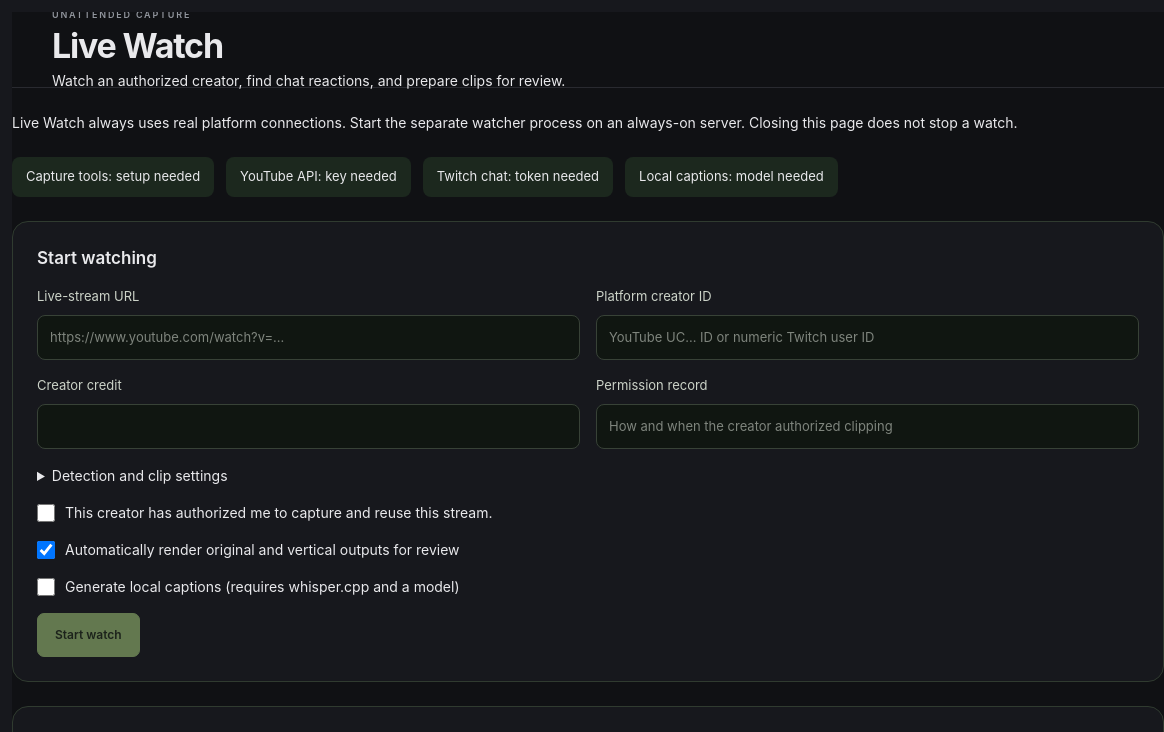
Scenario: shows live requirements and requires creator authorization
Expected: the text "YouTube API: key needed" is shown, [226, 157, 411, 196]
Expected: the button "Start watch" is disabled, [37, 613, 140, 657]
Click the checkbox labelled "This creator has authorized me to capture and reuse this stream.". click: [46, 512]
box: [37, 504, 55, 522]
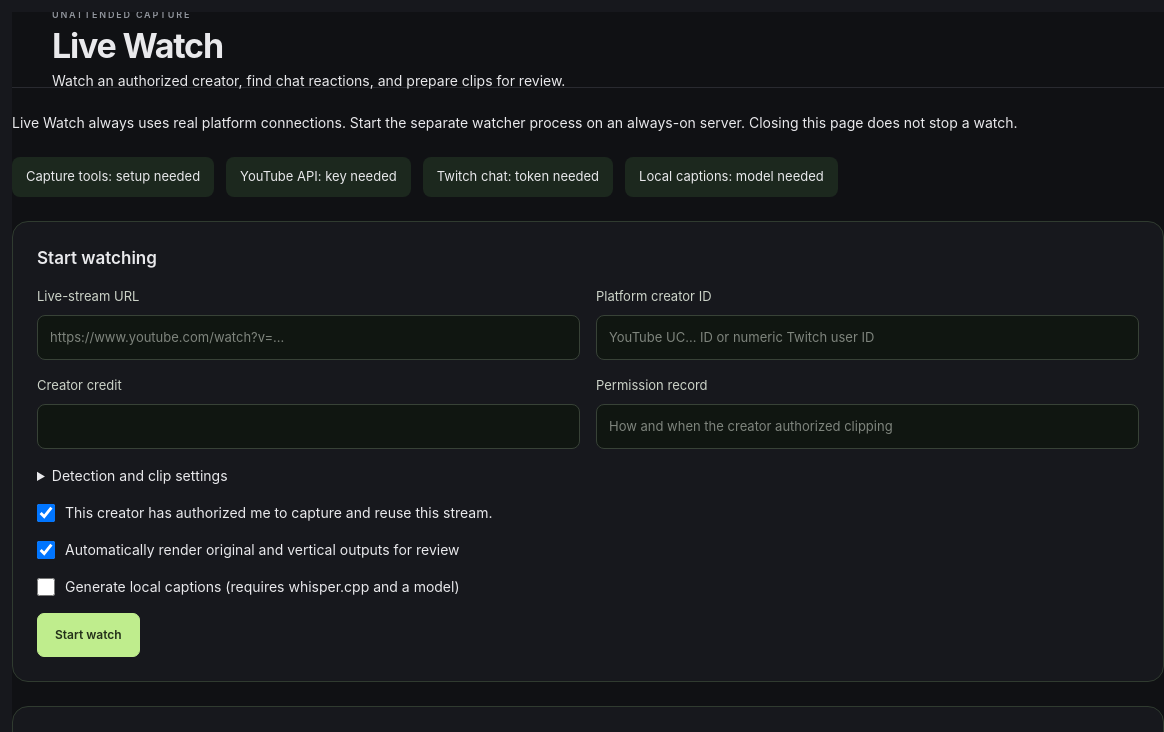
Now the button "Start watch" is enabled, box [37, 613, 140, 657]
